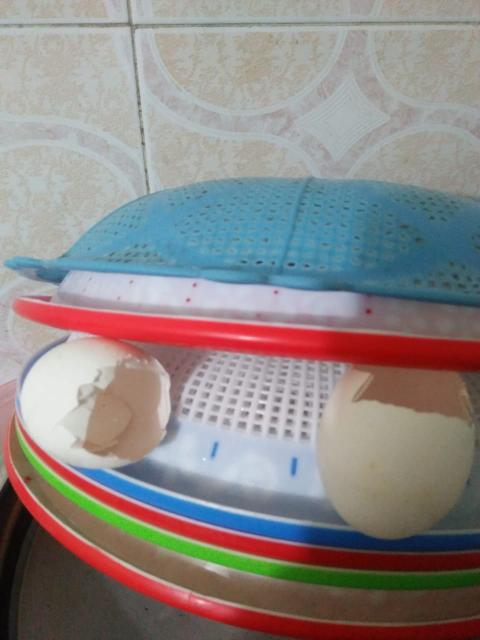Roto: (315, 362, 476, 540), (17, 334, 172, 470)
